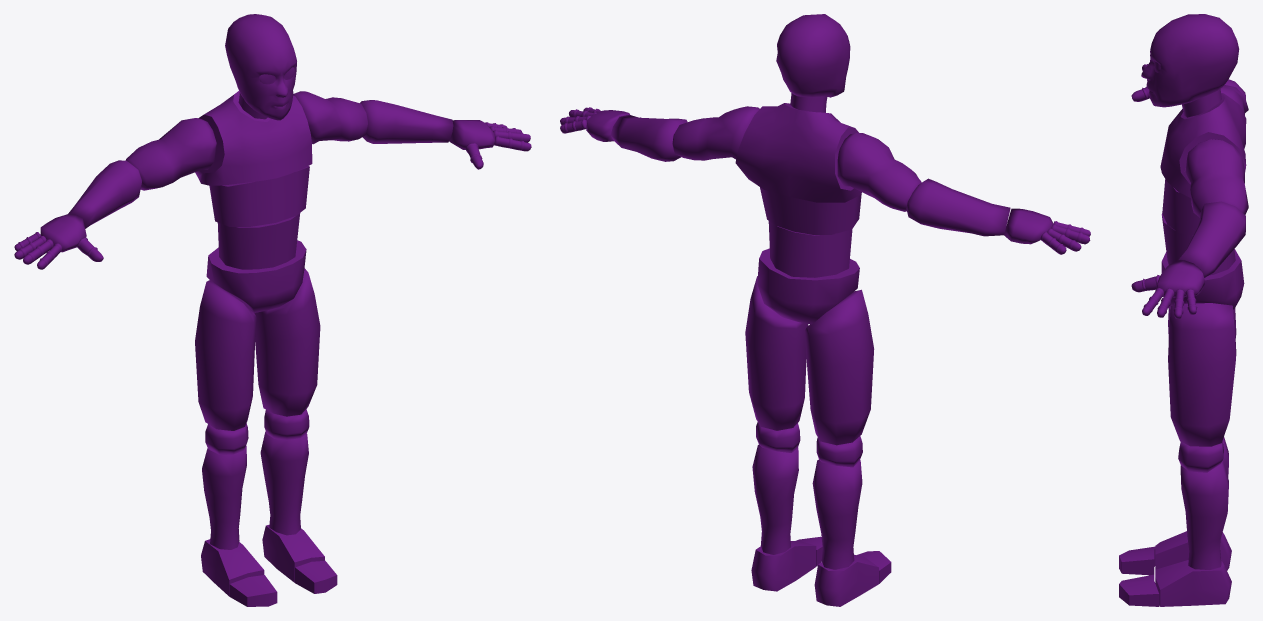
Rendered from ProtoCharacter.fbx.
3 views of the same model, side by side, from view 1: azimuth 30°, elevation 25°; view 2: azimuth 150°, elevation 25°; view 3: azimuth 270°, elevation 25° (orthographic). The views are drawn at different scales.
Visible parts, largest first — view 1: DummyMesh; view 2: DummyMesh; view 3: DummyMesh.
Part boxes in pixels (x1,y1,x2,y2): DummyMesh: (14, 14, 531, 606); DummyMesh: (560, 14, 1090, 606); DummyMesh: (1119, 14, 1248, 606).
Bounding box in the file's own units: 180 × 187 × 38.96.
